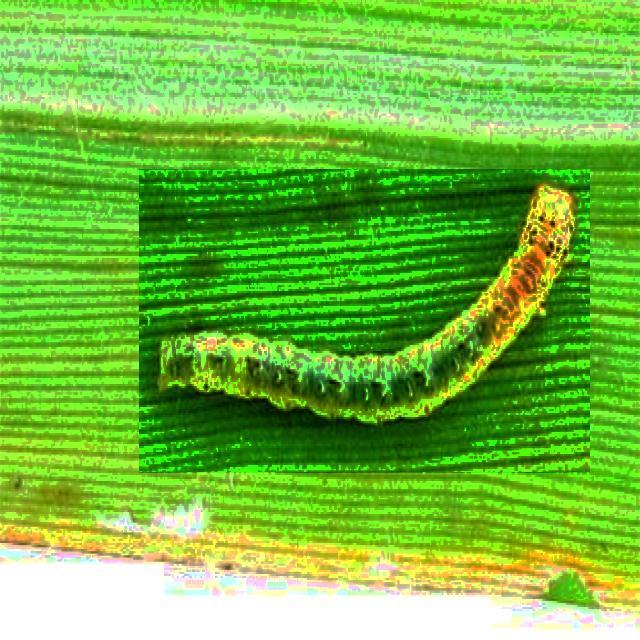leaf-folder: (139, 170, 590, 474)
